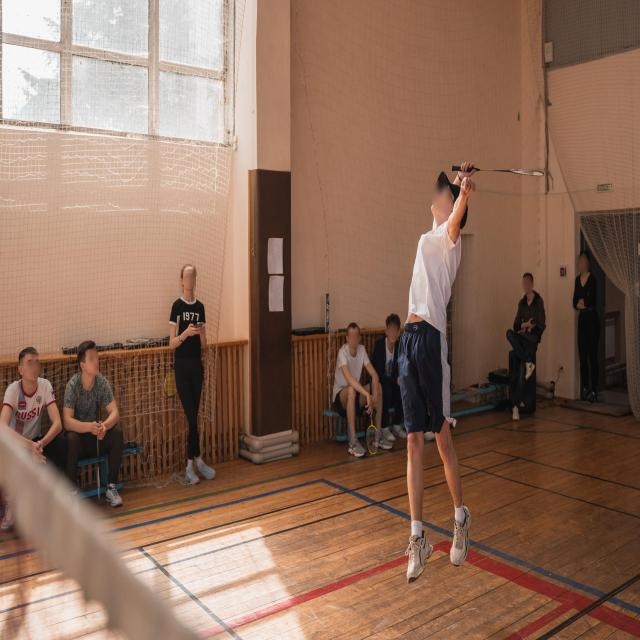Person: (397, 155, 482, 599), (166, 256, 222, 492), (65, 328, 126, 528), (0, 341, 58, 532), (499, 255, 554, 433), (330, 310, 375, 453), (573, 245, 605, 405), (376, 300, 408, 430)
